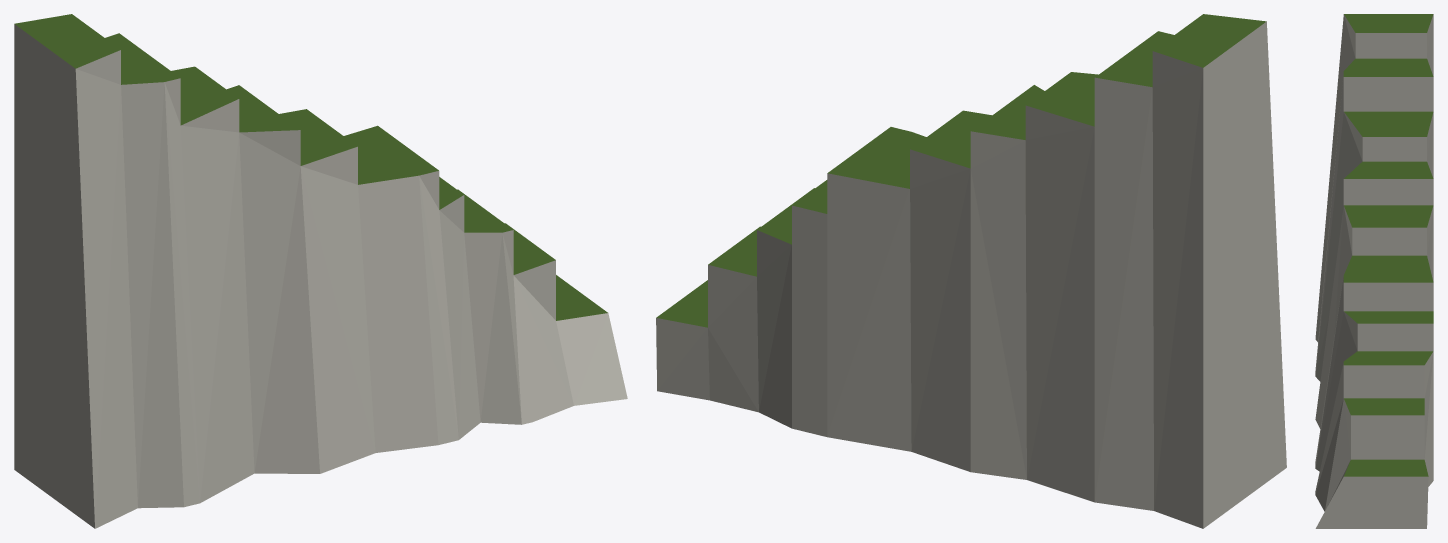
File: Terrain_Tile_Grass_Rock_Stairs_02.fbx
3 renders of one model, left to right at view 1: azimuth 30°, elevation 25°; view 2: azimuth 150°, elevation 25°; view 3: azimuth 270°, elevation 25°, orthographic. The views are drawn at different scales.
Visible parts, largest first — view 1: Terrain_Tile_Grass_Rock_Stairs_02; view 2: Terrain_Tile_Grass_Rock_Stairs_02; view 3: Terrain_Tile_Grass_Rock_Stairs_02.
Boxes of the visible parts, x1,y1,x2,y2 form: Terrain_Tile_Grass_Rock_Stairs_02: [14, 14, 627, 528]; Terrain_Tile_Grass_Rock_Stairs_02: [656, 14, 1286, 528]; Terrain_Tile_Grass_Rock_Stairs_02: [1315, 14, 1433, 528].
Bounding box in the file's own units: 157 × 126 × 41.44.
